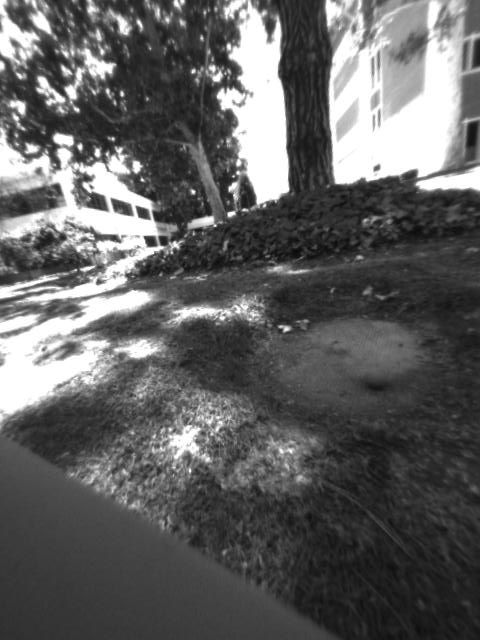dogtoy: (354, 359, 396, 395)
